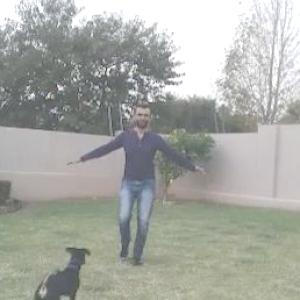land: (65, 71, 234, 298)
